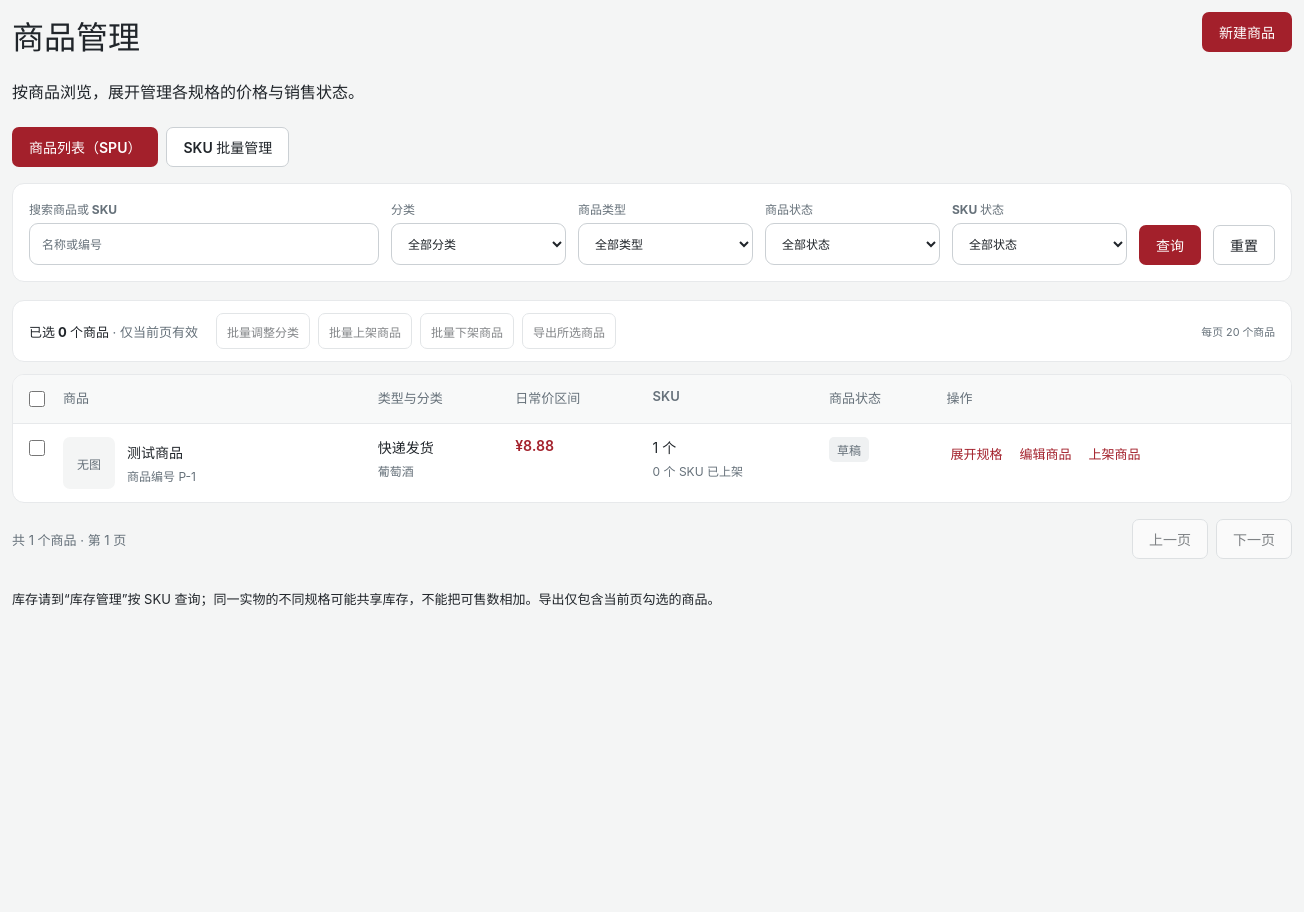
Test: focused product workspace › pages by SPU and expands SKU details without treating the SKU as a product row
Expected: the element with class "catalog-pagination" shows "共 1 个商品", [12, 532, 126, 548]
Click the button "展开规格".
click(976, 454)  # box [946, 437, 1006, 470]
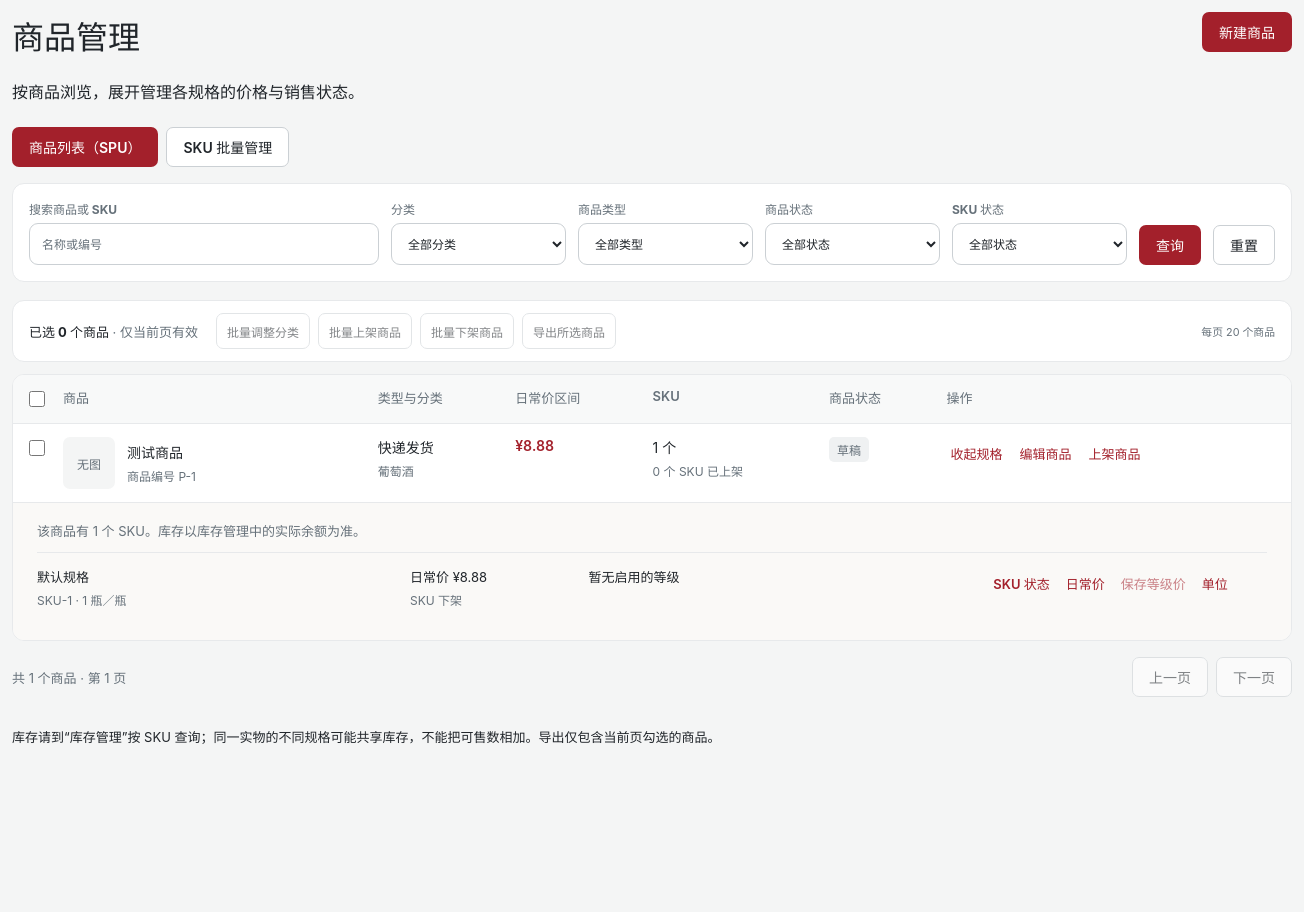
Expected: the element with class "catalog-sku-card" shows "SKU-1", [37, 593, 72, 608]
